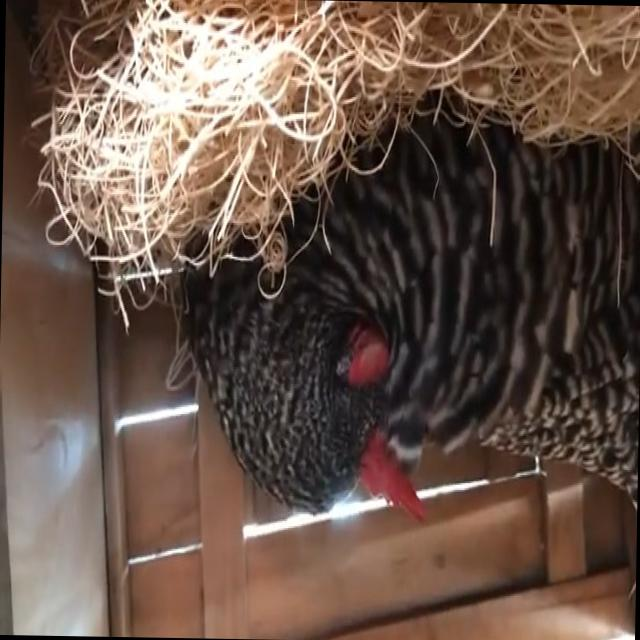sleeping chickens: (194, 100, 640, 538)
